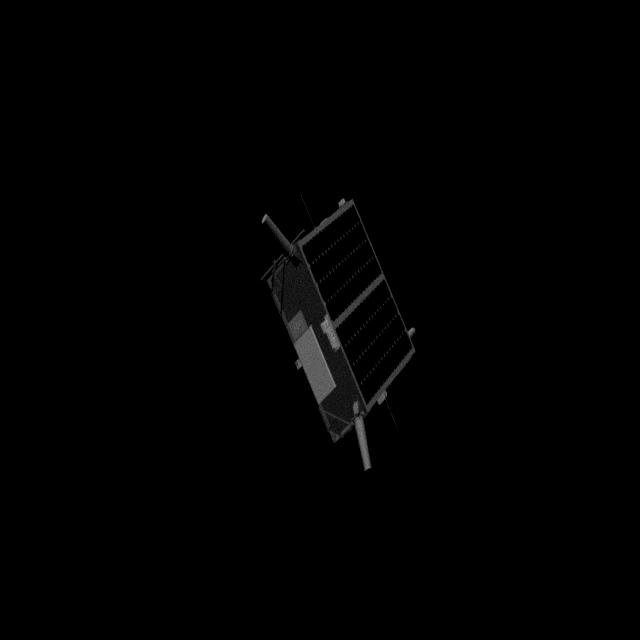satellite: (248, 186, 420, 478)
